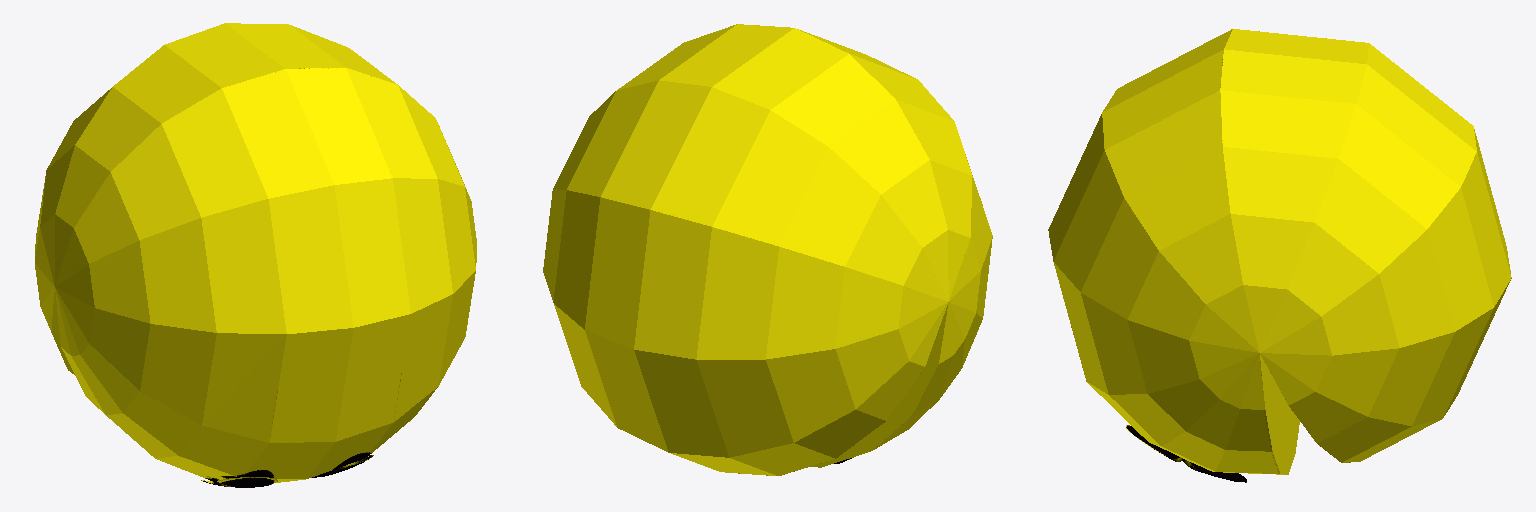
3 views of the same model, side by side, from view 1: azimuth 30°, elevation 25°; view 2: azimuth 150°, elevation 25°; view 3: azimuth 270°, elevation 25° (orthographic).
Visible parts, largest first — view 1: Object.1, Object.2; view 2: Object.1, Object.3; view 3: Object.1, Object.3, Object.2.
Boxes of the visible parts, x1,y1,x2,y2 form: Object.1: [35, 23, 476, 482]; Object.2: [201, 455, 373, 487]; Object.1: [543, 24, 992, 475]; Object.3: [811, 302, 948, 467]; Object.1: [1048, 29, 1511, 474]; Object.3: [1260, 355, 1299, 474]; Object.2: [1126, 425, 1246, 482].
Bounding box in the file's own units: 509 × 528 × 535.
3 materials, 3 textured.